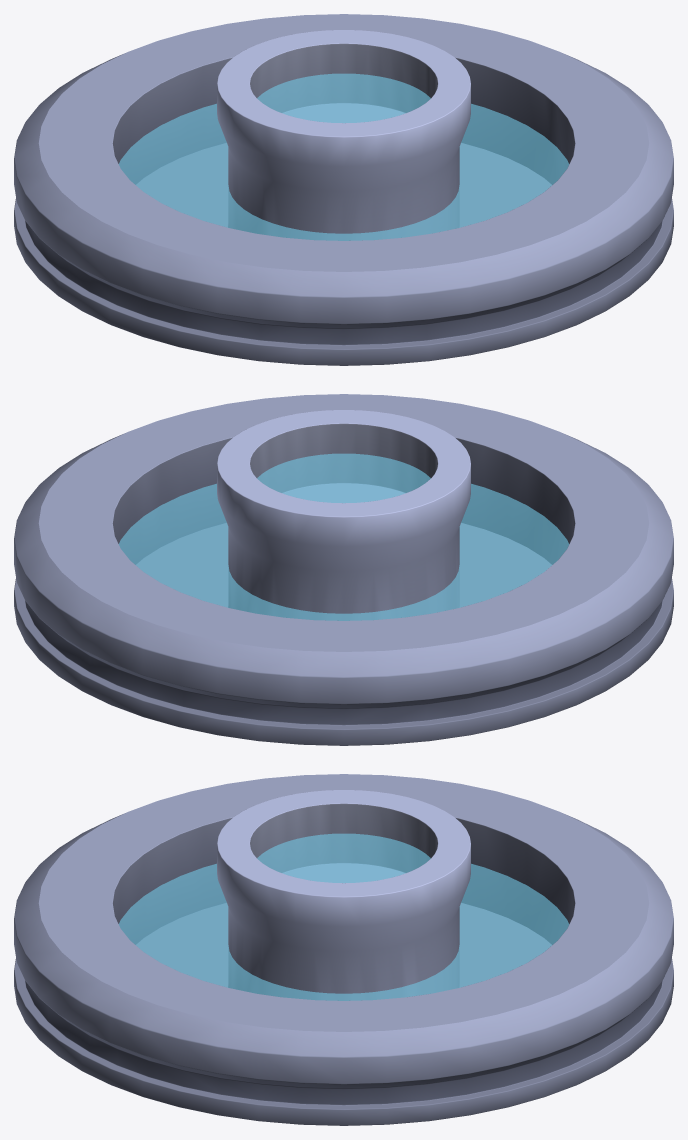
Rendered from fountain-round-detail.glb.
The picture shows the model from 3 angles, top to bottom: view 1: azimuth 30°, elevation 25°; view 2: azimuth 150°, elevation 25°; view 3: azimuth 270°, elevation 25°; orthographic projection.
Parts seen in each view (by area): view 1: fountain-round-detail, (%ignore); view 2: fountain-round-detail, (%ignore); view 3: fountain-round-detail, (%ignore).
Boxes of the visible parts, bbox=[...] form: fountain-round-detail: bbox=[14, 14, 673, 365]; (%ignore): bbox=[119, 73, 568, 240]; fountain-round-detail: bbox=[14, 394, 673, 745]; (%ignore): bbox=[119, 453, 568, 620]; fountain-round-detail: bbox=[14, 774, 673, 1125]; (%ignore): bbox=[119, 833, 568, 1000].
Bounding box in the file's own units: 2 × 0.48 × 2.
2 materials, 1 textured.
